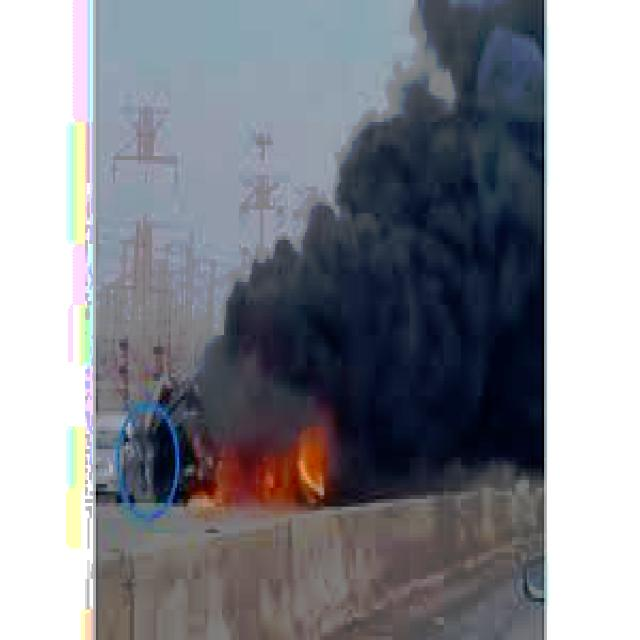api: (187, 401, 332, 523)
